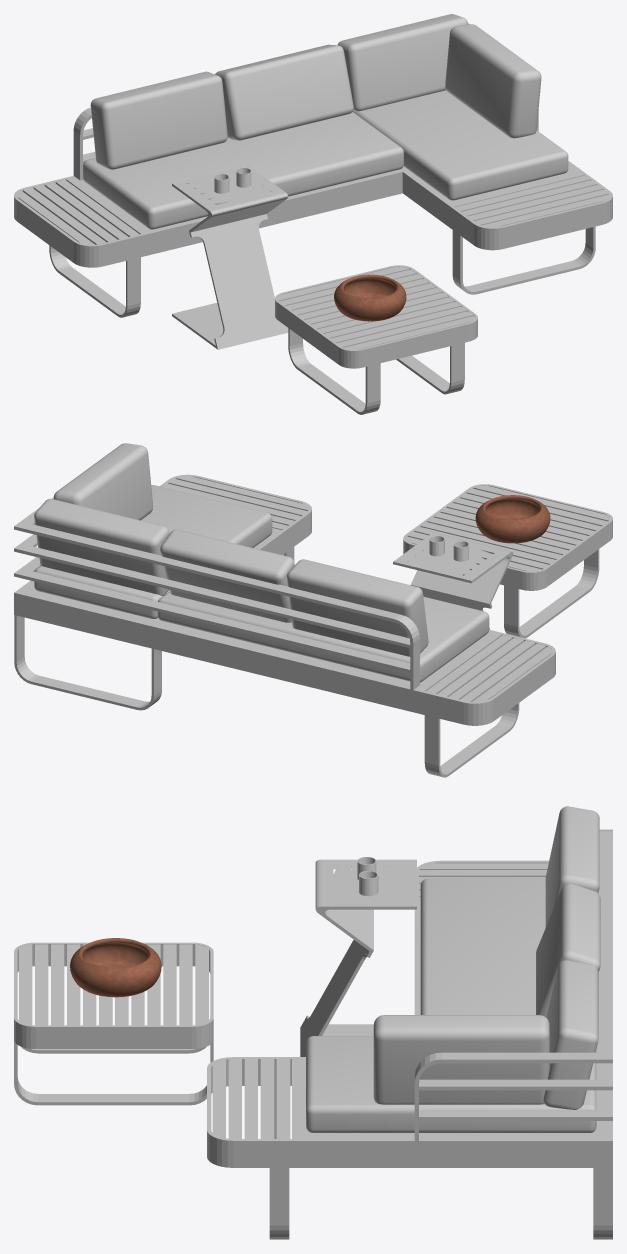
File: Couch.fbx
3 views of the same model, one above another, from view 1: azimuth 30°, elevation 25°; view 2: azimuth 150°, elevation 25°; view 3: azimuth 270°, elevation 25° (orthographic). The views are drawn at different scales.
Visible parts, largest first — view 1: Couch, Mattress_1_Low, Mattress_2_Low, Metal_tabel, Pillow_4_Low, Pillow_3_Low, Tabel, Pillow_2_Low, Pillow_1_Low, Tabel_wood, Bow, Couch_back; view 2: Couch, Couch_back, Mattress_1_Low, Pillow_4_Low, Mattress_2_Low, Pillow_2_Low, Pillow_3_Low, Tabel_wood, Tabel, Metal_tabel, Pillow_1_Low, Bow; view 3: Couch, Mattress_1_Low, Pillow_1_Low, Mattress_2_Low, Couch_back, Tabel_wood, Tabel, Metal_tabel, Pillow_2_Low, Pillow_3_Low, Bow, Pillow_4_Low.
Part boxes in pixels (x1,y1,x2,y2): Couch: (14, 161, 612, 317); Mattress_1_Low: (83, 112, 403, 229); Mattress_2_Low: (352, 90, 568, 200); Metal_tabel: (172, 165, 288, 349); Pillow_4_Low: (90, 71, 227, 169); Pillow_3_Low: (215, 44, 353, 140); Tabel: (275, 265, 477, 414); Pillow_2_Low: (337, 14, 468, 111); Pillow_1_Low: (445, 24, 541, 138); Tabel_wood: (278, 266, 474, 349); Bow: (334, 274, 406, 321); Couch_back: (73, 23, 538, 180); Couch: (14, 474, 555, 777); Couch_back: (14, 497, 419, 690); Mattress_1_Low: (157, 591, 489, 682); Pillow_4_Low: (287, 559, 428, 656); Mattress_2_Low: (34, 485, 272, 618); Pillow_2_Low: (34, 498, 169, 595); Pillow_3_Low: (160, 529, 294, 622); Tabel_wood: (406, 485, 609, 571); Tabel: (403, 484, 612, 638); Metal_tabel: (393, 532, 512, 629); Pillow_1_Low: (53, 443, 153, 520); Bow: (475, 495, 550, 543); Couch: (207, 860, 612, 1239); Mattress_1_Low: (420, 878, 545, 1014); Pillow_1_Low: (373, 1015, 549, 1104); Mattress_2_Low: (306, 1036, 596, 1132); Couch_back: (414, 829, 612, 1144); Tabel_wood: (19, 944, 208, 1025); Tabel: (14, 942, 213, 1105); Metal_tabel: (300, 859, 416, 1056); Pillow_2_Low: (543, 960, 598, 1109); Pillow_3_Low: (536, 883, 600, 1017); Bow: (70, 938, 161, 997); Pillow_4_Low: (545, 806, 599, 927).
Bounding box in the file's own units: 413 × 150 × 373.
